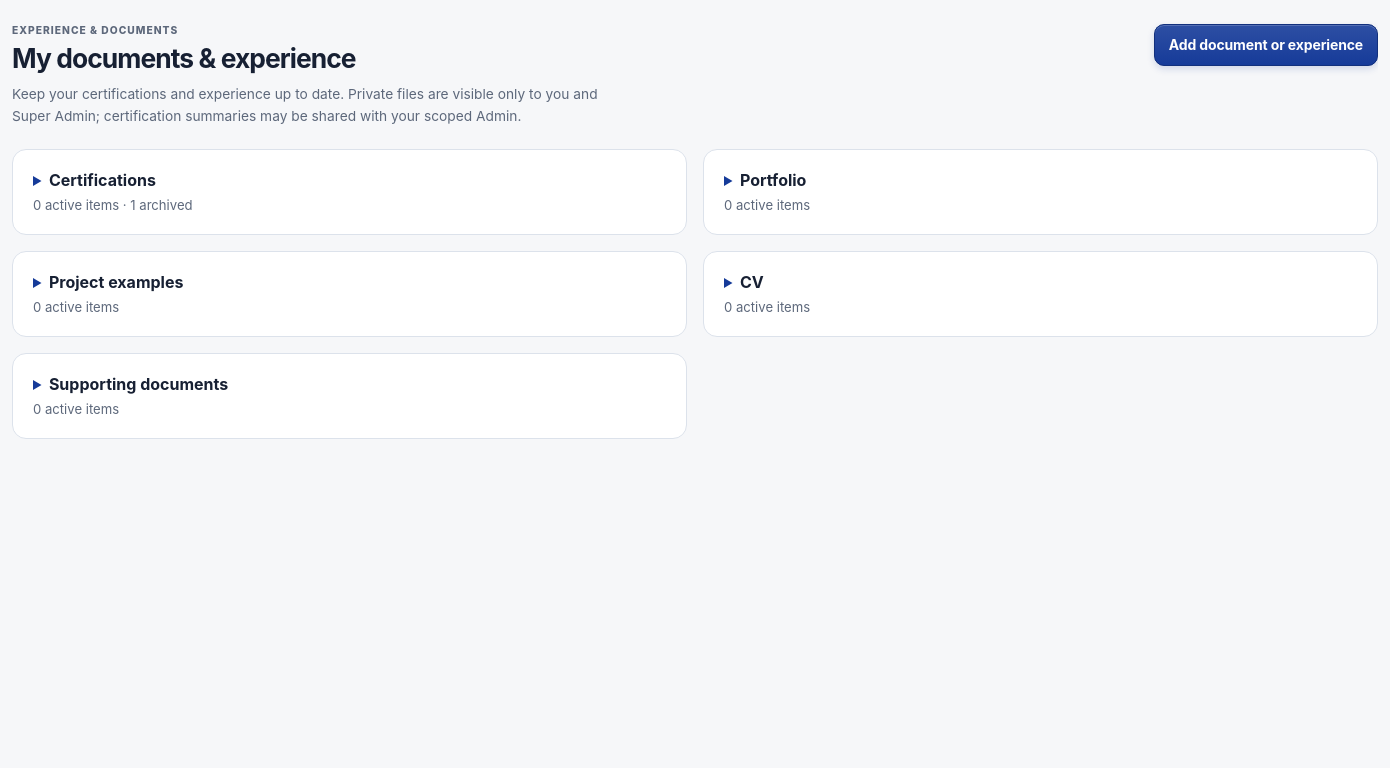
Test case: Phase 9 capability evidence forms › preserves archive counts and history without offering archived mutations
Expected: the text "0 active items · 1 archived" is shown, x1=33 y1=197 x2=193 y2=213
Click the heading "Certifications" at [102, 180], box x1=49 y1=170 x2=156 y2=190
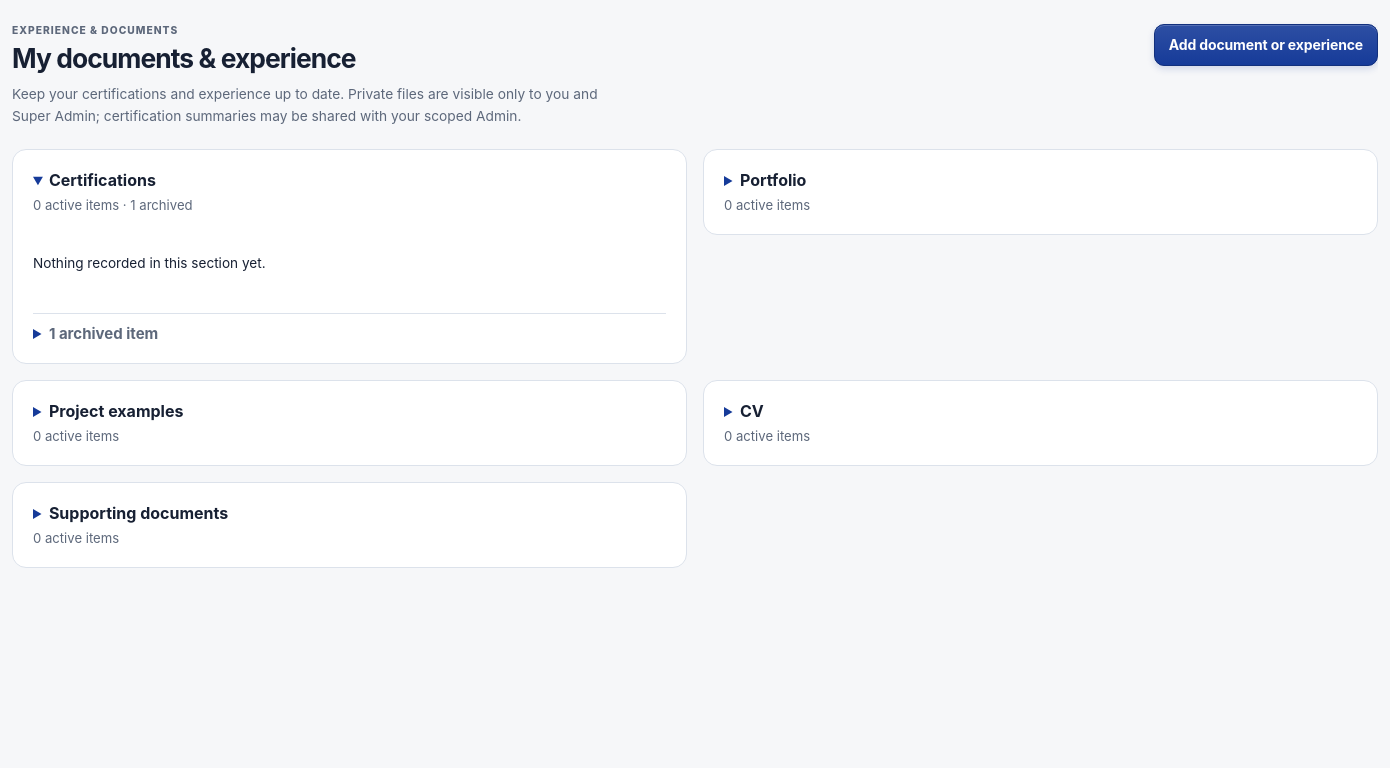
Click the heading "1 archived item" at [104, 333], box x1=49 y1=324 x2=158 y2=343
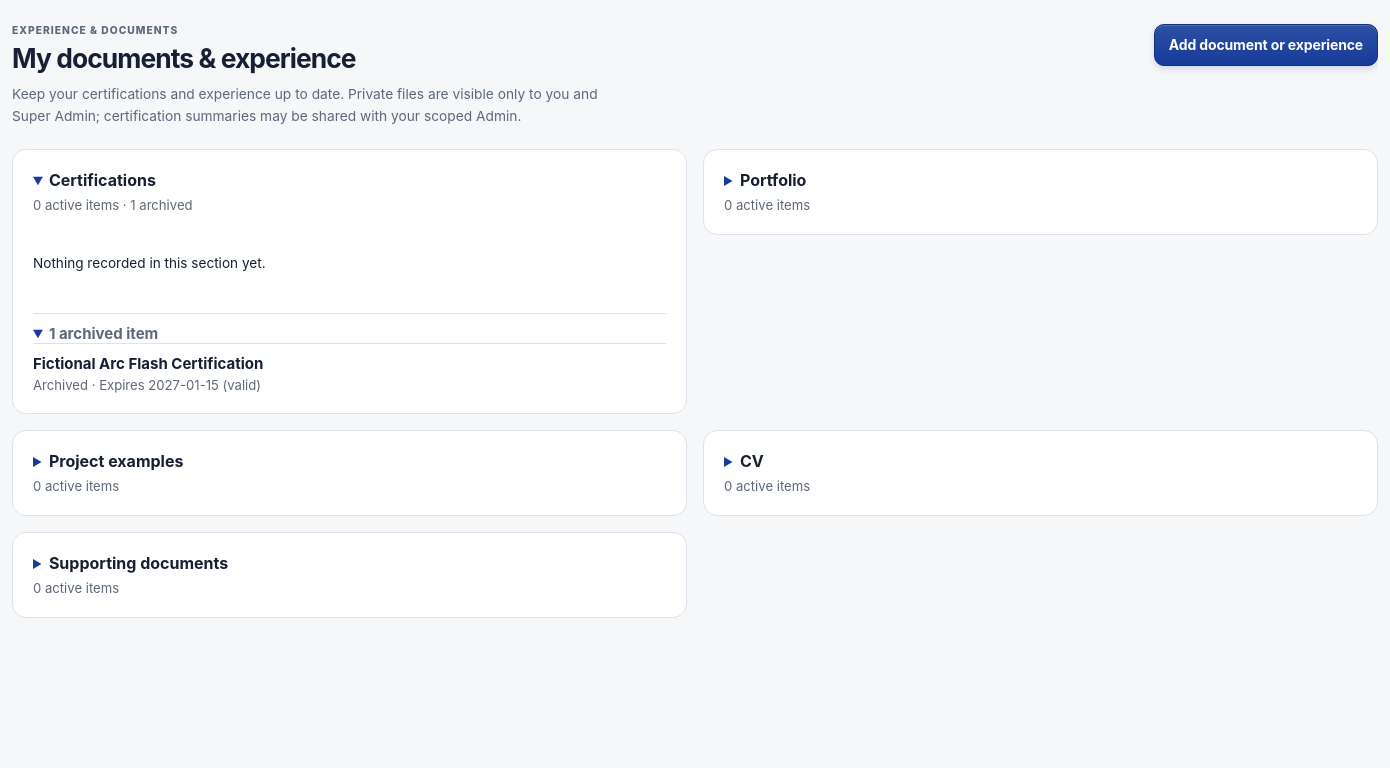
Expected: the text "Fictional Arc Flash Certification" is shown, x1=33 y1=354 x2=263 y2=373
